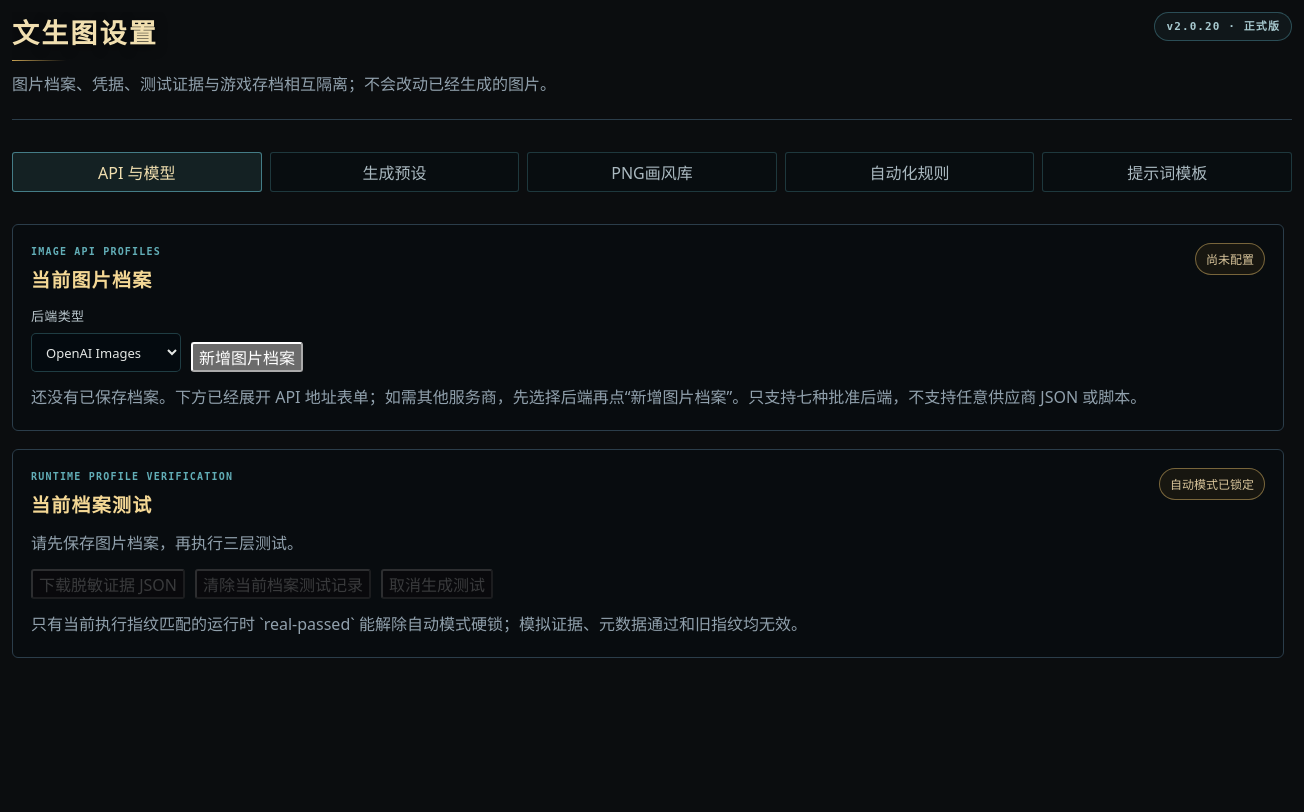
Test: ImageGenerationSettingsPanel › opens the PNG style library as a separate local asset page
Click the tab "PNG画风库" at (652, 172), box [527,152,777,192]
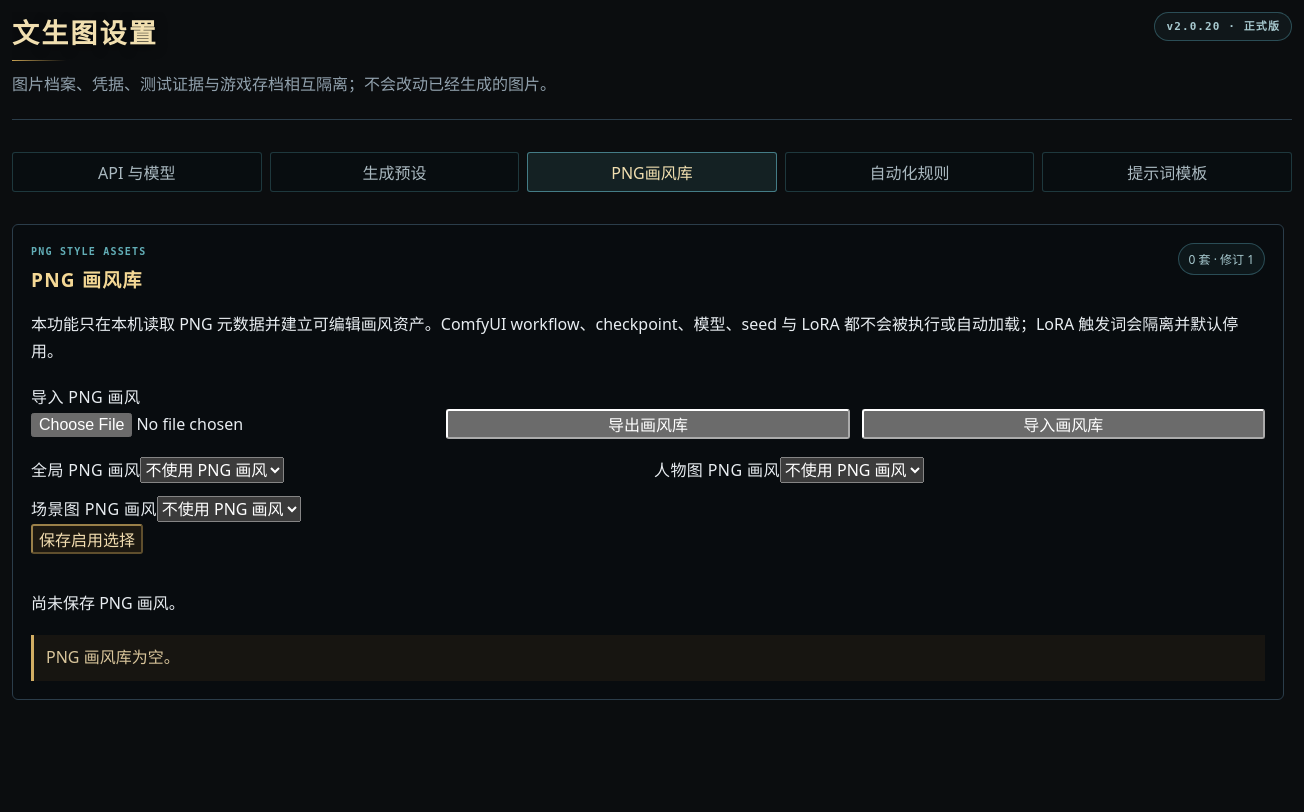
Check: the heading "PNG 画风库" is shown, box [31,265,146,293]
Check: the text "不会被执行或自动加载" is shown, box [31,313,1238,362]
